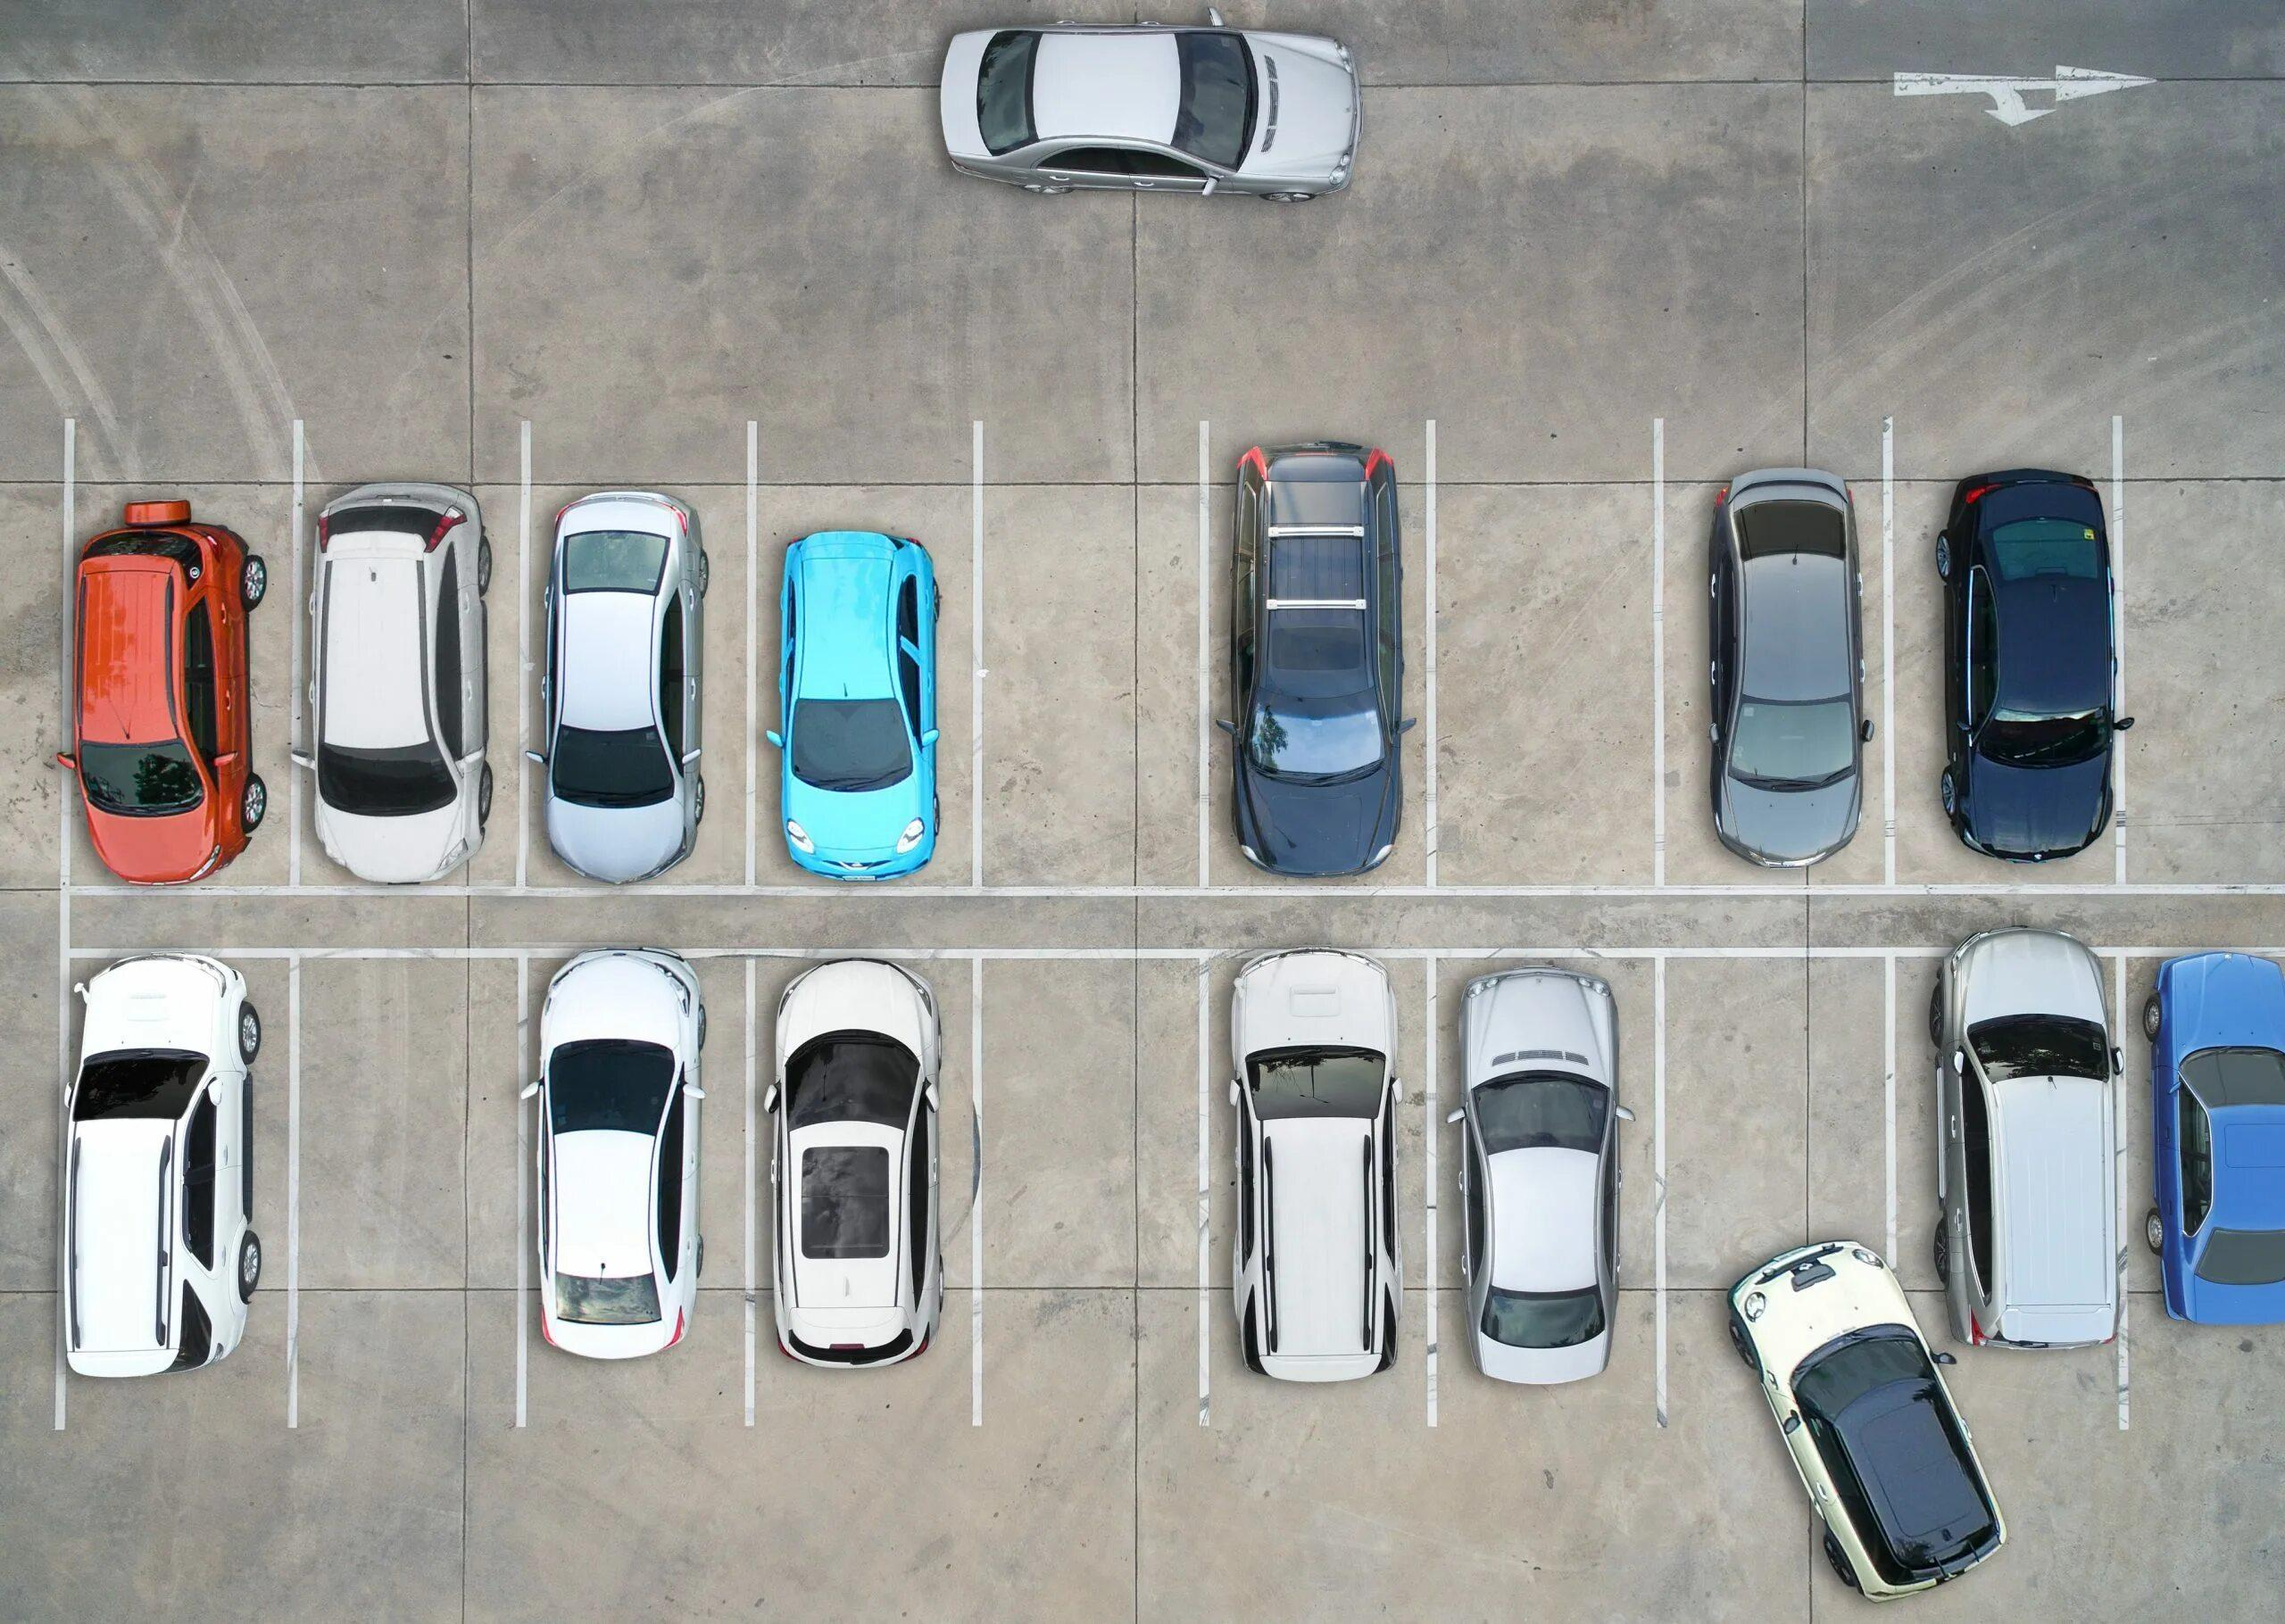occupied: (1882, 947, 2132, 1425), (60, 953, 295, 1424), (65, 424, 299, 891), (1431, 953, 1663, 1424), (1890, 420, 2122, 889), (1658, 422, 1890, 889), (297, 424, 527, 893), (520, 953, 751, 1422), (1204, 953, 1433, 1422), (522, 425, 752, 889), (1204, 424, 1433, 891), (751, 953, 977, 1422), (751, 425, 977, 889)
vacant: (1654, 947, 1900, 1429), (294, 953, 522, 1424), (1431, 424, 1661, 889), (977, 954, 1206, 1420), (977, 425, 1204, 889)
